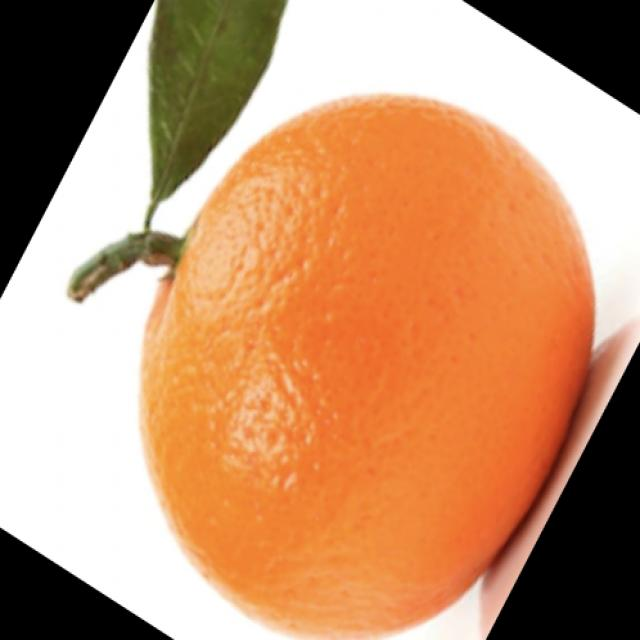fresh: (48, 75, 618, 640)
